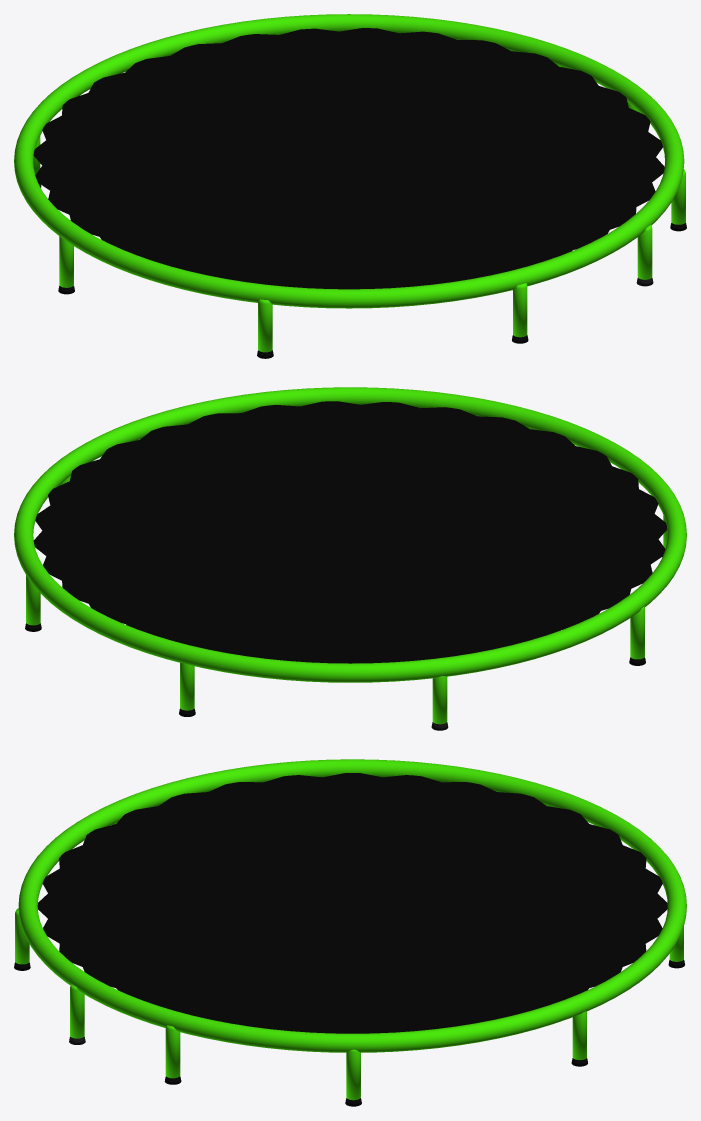
Rendered from TRAMPOLINE.fbx.
3 views of the same model, one above another, from view 1: azimuth 30°, elevation 25°; view 2: azimuth 150°, elevation 25°; view 3: azimuth 270°, elevation 25° (orthographic).
Parts seen in each view (by area): view 1: Circle, Torus, Cylinder.008, Cylinder.003, Cylinder.007, Cylinder.002, Cylinder.006; view 2: Circle, Torus, Cylinder.005, Cylinder.002, Cylinder, Cylinder.004; view 3: Circle, Torus, Cylinder.006, Cylinder.008, Cylinder.001, Cylinder.004, Cylinder.003.
Boxes of the visible parts, x1=… form: Circle: x1=33, y1=28, x2=664, y2=289; Torus: x1=14, y1=14, x2=684, y2=308; Cylinder.008: x1=636, y1=224, x2=653, y2=286; Cylinder.003: x1=512, y1=283, x2=528, y2=343; Cylinder.007: x1=257, y1=299, x2=273, y2=358; Cylinder.002: x1=58, y1=235, x2=74, y2=294; Cylinder.006: x1=670, y1=169, x2=686, y2=231; Circle: x1=33, y1=401, x2=667, y2=663; Torus: x1=14, y1=387, x2=686, y2=682; Cylinder.005: x1=431, y1=676, x2=448, y2=730; Cylinder.002: x1=629, y1=606, x2=645, y2=665; Cylinder: x1=179, y1=663, x2=195, y2=716; Cylinder.004: x1=25, y1=575, x2=41, y2=631; Circle: x1=37, y1=773, x2=667, y2=1033; Torus: x1=18, y1=759, x2=686, y2=1052; Cylinder.006: x1=164, y1=1025, x2=181, y2=1084; Cylinder.008: x1=69, y1=984, x2=85, y2=1044; Cylinder.001: x1=345, y1=1049, x2=361, y2=1106; Cylinder.004: x1=571, y1=1011, x2=587, y2=1066; Cylinder.003: x1=14, y1=908, x2=30, y2=970.
Bounding box in the file's own units: 217 × 24.03 × 217.
